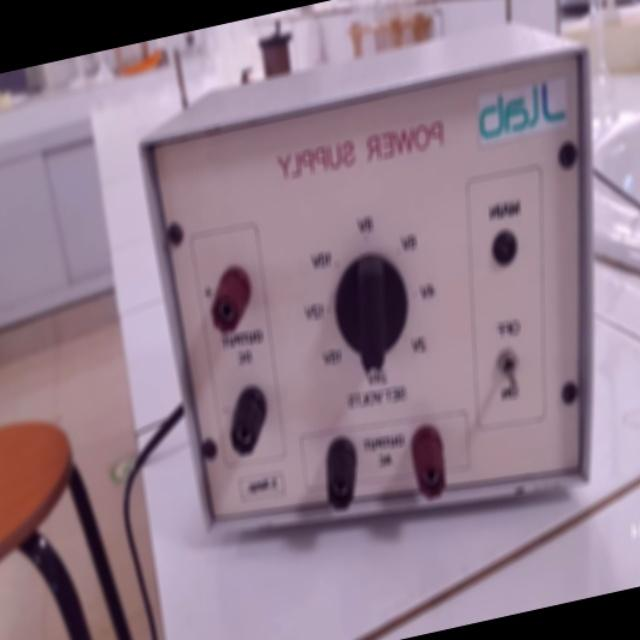Power Supply: (131, 16, 639, 564)
